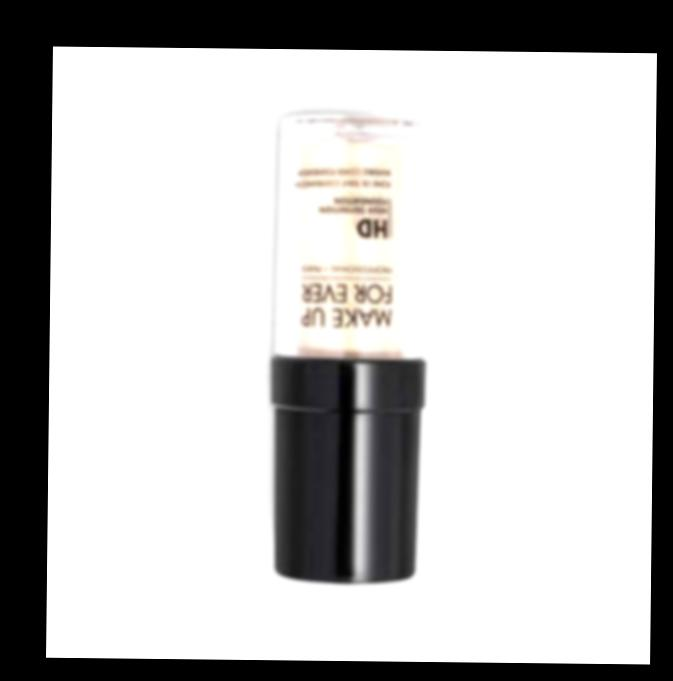cosmetic: (264, 112, 434, 584)
